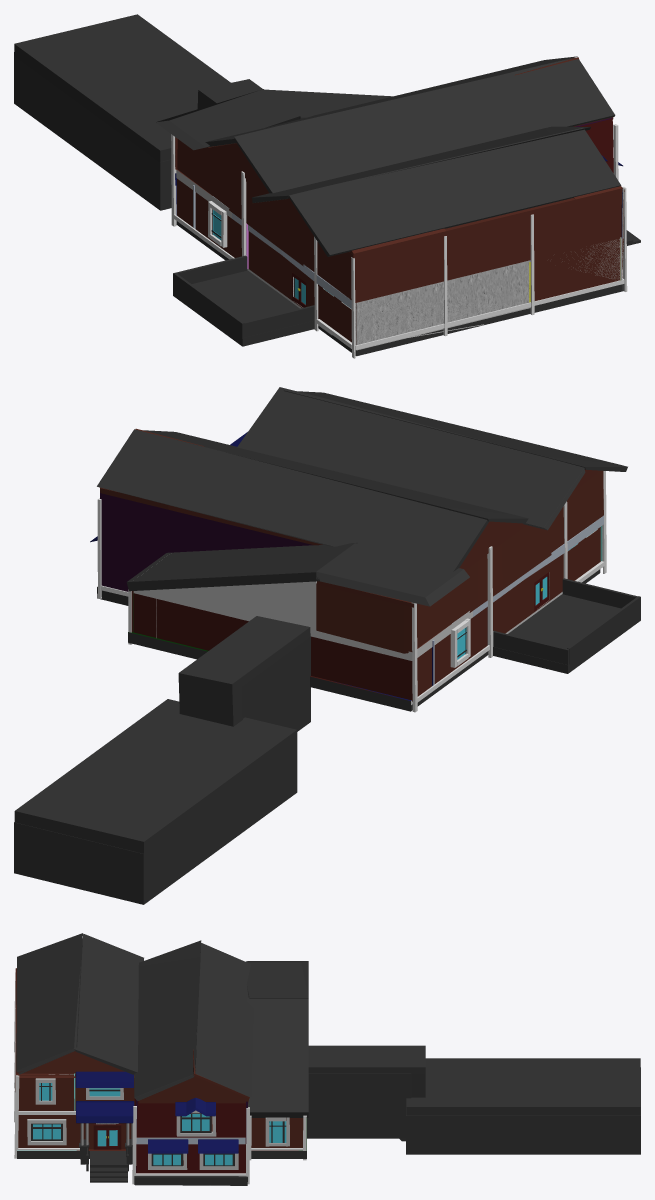
The model's file is isitready.fbx.
3 views of the same model, one above another, from view 1: azimuth 30°, elevation 25°; view 2: azimuth 150°, elevation 25°; view 3: azimuth 270°, elevation 25° (orthographic). The views are drawn at different scales.
Visible parts, largest first — view 1: Wall.004, gARAGE.010, gARAGE.014, Cube.105, gARAGE, gARAGE.006, Wall.001, gARAGE.012, gARAGE.002, gARAGE.007, gARAGE.015, Ground (+9 smaller); view 2: gARAGE.008, Cube.105, gARAGE.015, gARAGE, Wall.003, Wall.007, gARAGE.006, Cube.106, gARAGE.004, Ceiling.001, Wall.001, gARAGE.012 (+11 smaller); view 3: Cube.105, gARAGE, gARAGE.010, gARAGE.014, gARAGE.015, gARAGE.008, gARAGE.004, Cube.103, Wall.006, Cube.106, gARAGE.007, Ground (+16 smaller).
Boxes of the visible parts, x1=… form: Wall.004: x1=354, y1=187, x2=623, y2=344; gARAGE.010: x1=234, y1=57, x2=615, y2=193; gARAGE.014: x1=289, y1=127, x2=621, y2=256; Cube.105: x1=14, y1=14, x2=230, y2=162; gARAGE: x1=14, y1=56, x2=171, y2=210; gARAGE.006: x1=177, y1=139, x2=354, y2=299; Wall.001: x1=177, y1=178, x2=358, y2=344; gARAGE.012: x1=155, y1=89, x2=300, y2=150; gARAGE.002: x1=173, y1=270, x2=314, y2=346; gARAGE.007: x1=204, y1=57, x2=624, y2=257; gARAGE.015: x1=252, y1=126, x2=590, y2=202; Ground: x1=176, y1=221, x2=640, y2=356; gARAGE.008: x1=97, y1=429, x2=488, y2=571; Cube.105: x1=14, y1=699, x2=297, y2=854; gARAGE.015: x1=237, y1=387, x2=585, y2=530; gARAGE: x1=14, y1=743, x2=297, y2=904; Wall.003: x1=100, y1=491, x2=313, y2=591; Wall.007: x1=134, y1=593, x2=412, y2=701; gARAGE.006: x1=417, y1=470, x2=603, y2=647; Cube.106: x1=178, y1=616, x2=310, y2=726; gARAGE.004: x1=126, y1=542, x2=357, y2=591; Ceiling.001: x1=133, y1=581, x2=472, y2=660; Wall.001: x1=417, y1=527, x2=600, y2=696; gARAGE.012: x1=316, y1=543, x2=469, y2=606; Cube.105: x1=406, y1=1058, x2=640, y2=1115; gARAGE: x1=406, y1=1067, x2=640, y2=1154; gARAGE.010: x1=134, y1=940, x2=201, y2=1100; gARAGE.014: x1=16, y1=933, x2=82, y2=1074; gARAGE.015: x1=74, y1=933, x2=143, y2=1074; gARAGE.008: x1=195, y1=942, x2=253, y2=1097; gARAGE.004: x1=247, y1=997, x2=308, y2=1117; Cube.103: x1=307, y1=1073, x2=411, y2=1138; Wall.006: x1=136, y1=1101, x2=245, y2=1173; Cube.106: x1=308, y1=1045, x2=425, y2=1097; gARAGE.007: x1=15, y1=968, x2=249, y2=1103; Ground: x1=17, y1=1118, x2=306, y2=1182.
Bounding box in the file's own units: 27349 × 11388 × 43536.
